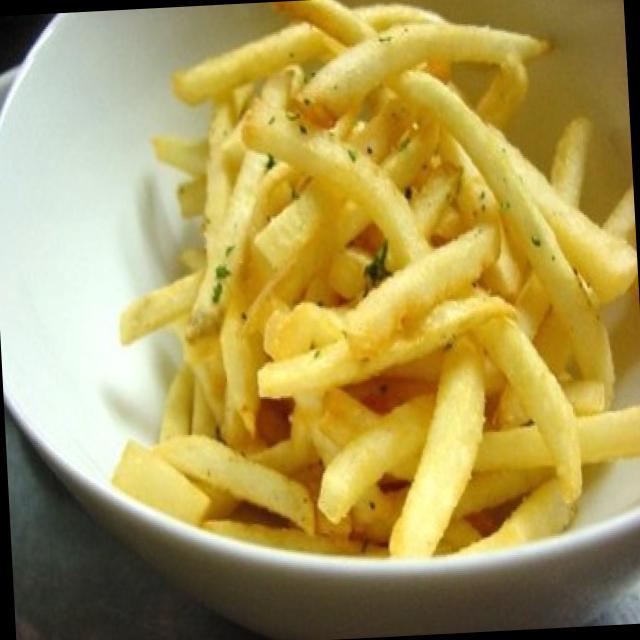French Fries: (119, 2, 640, 526)
